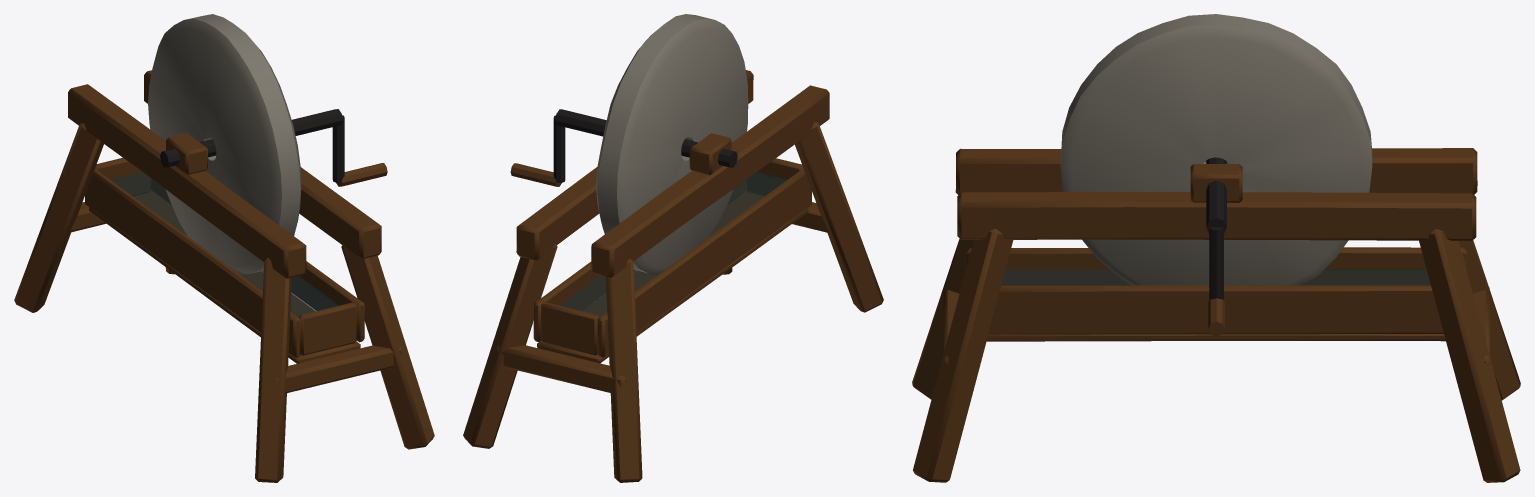
Rendered from schleifstein.glb.
3 views of the same model, side by side, from view 1: azimuth 30°, elevation 25°; view 2: azimuth 150°, elevation 25°; view 3: azimuth 270°, elevation 25° (orthographic). The views are drawn at different scales.
Visible parts, largest first — view 1: schleifstein; view 2: schleifstein; view 3: schleifstein.
Part boxes in pixels (box(x1,y1,x2,y2)): schleifstein: box(14, 14, 434, 482); schleifstein: box(463, 14, 883, 482); schleifstein: box(912, 14, 1520, 482).
Bounding box in the file's own units: 0.6571 × 0.8885 × 1.17.
